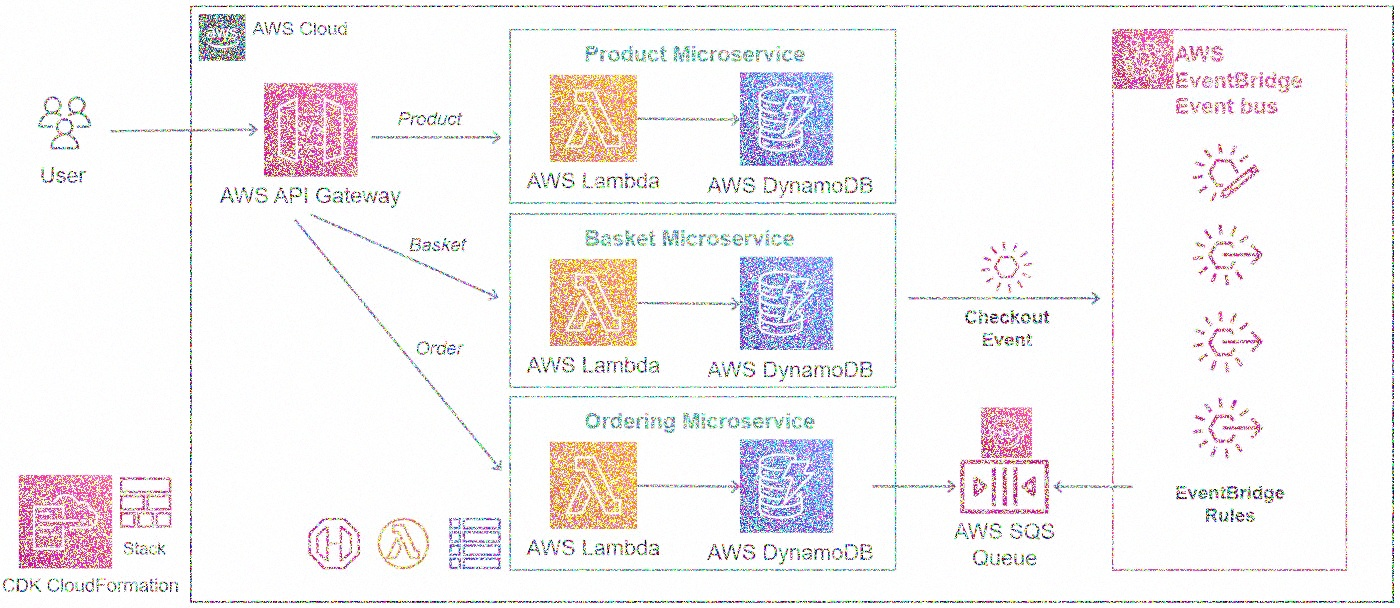API-Gateway: (257, 77, 367, 182), (299, 509, 367, 574)
CloudFormation Stack: (19, 467, 115, 570)
Dynamo DB: (735, 435, 840, 538), (739, 251, 838, 356), (739, 67, 838, 170)
EventBridge: (1111, 23, 1175, 92)
Lambda: (541, 63, 646, 170), (543, 437, 641, 534), (547, 255, 641, 351), (375, 513, 432, 571)
SQS: (977, 400, 1038, 459)
Stack: (117, 469, 177, 532)
Users: (27, 79, 101, 154)
aws: (189, 3, 253, 67)
